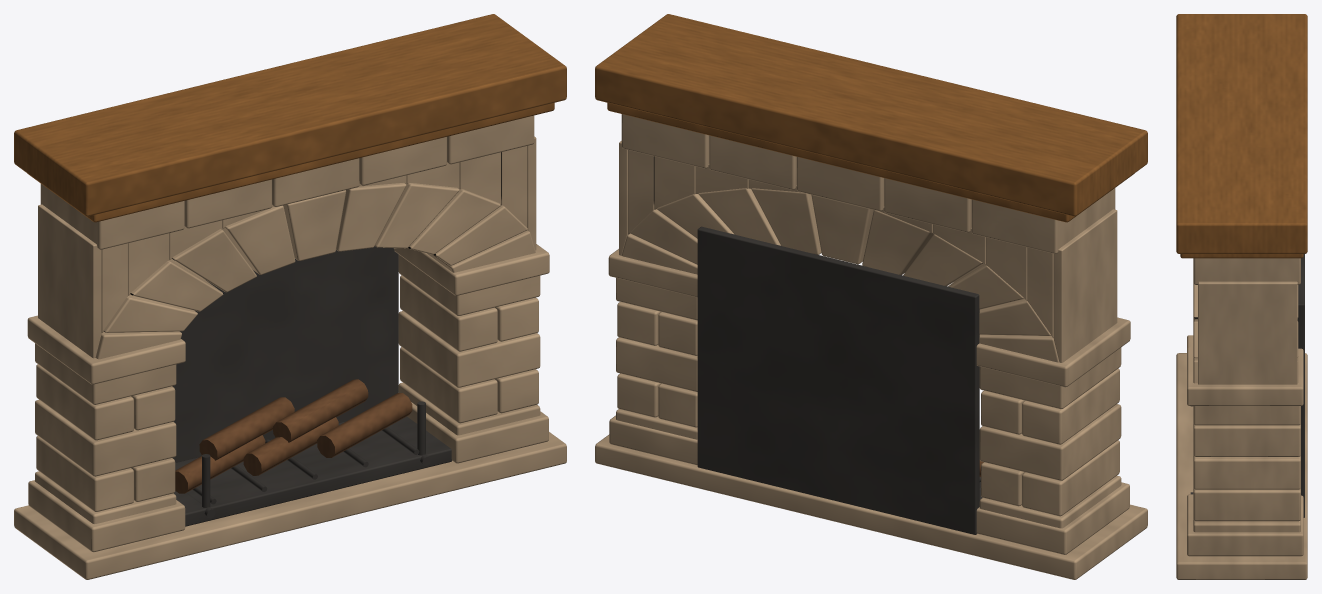
Rendered from Furn_Fireplace.fbx.
The picture shows the model from 3 angles, left to right: view 1: azimuth 30°, elevation 25°; view 2: azimuth 150°, elevation 25°; view 3: azimuth 270°, elevation 25°; orthographic projection. The views are drawn at different scales.
Parts seen in each view (by area): view 1: Furn_Fireplace_Mesh; view 2: Furn_Fireplace_Mesh; view 3: Furn_Fireplace_Mesh.
Boxes of the visible parts, x1,y1,x2,y2 form: Furn_Fireplace_Mesh: (14, 14, 566, 579); Furn_Fireplace_Mesh: (595, 14, 1147, 579); Furn_Fireplace_Mesh: (1176, 14, 1307, 579).
Bounding box in the file's own units: 3.8 × 3 × 1.
Materials: 4 (4 with a texture image).
